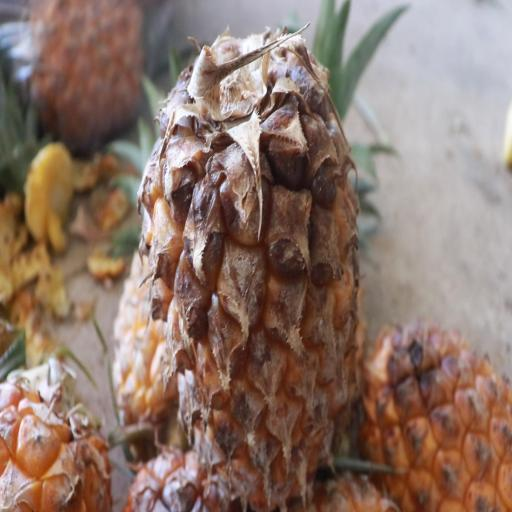Pineapple - v8 v1: (136, 31, 366, 509), (354, 308, 512, 512)
